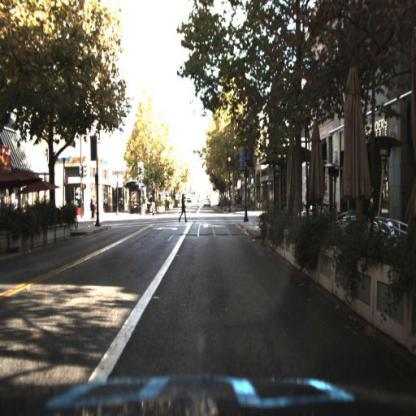pedestrian: (141, 196, 155, 217), (179, 194, 188, 224), (90, 196, 99, 221)
trafficLight-Red: (226, 151, 234, 176)
